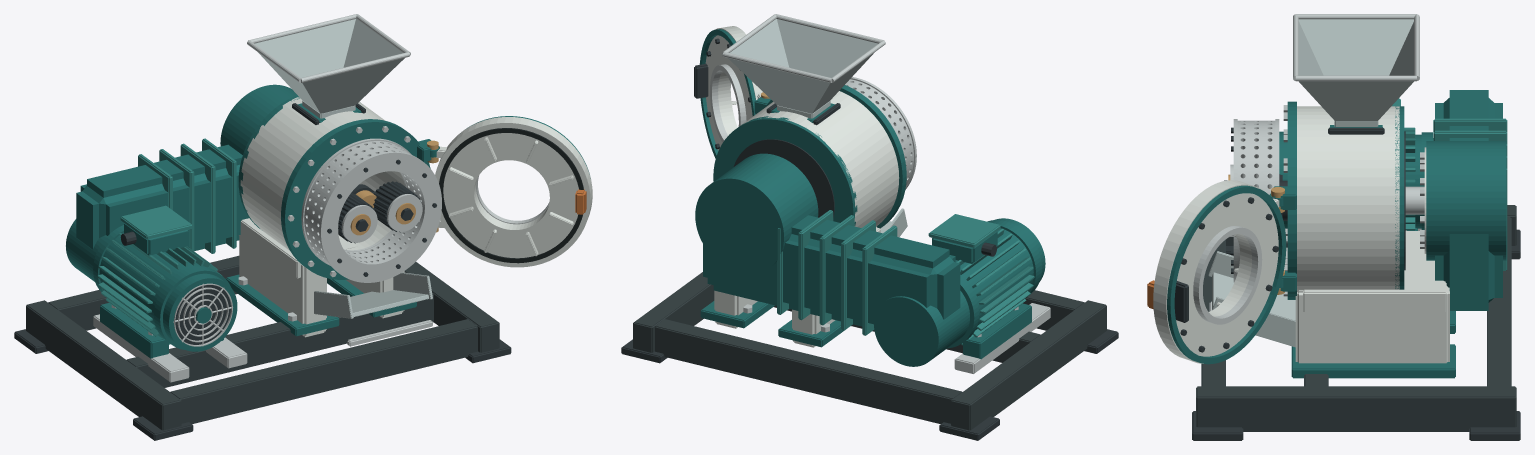
The model's file is assembled.glb.
The picture shows the model from 3 angles, left to right: view 1: azimuth 30°, elevation 25°; view 2: azimuth 150°, elevation 25°; view 3: azimuth 270°, elevation 25°; orthographic projection. The views are drawn at different scales.
Parts seen in each view (by area): view 1: frame, service_cover, reduction_gearcase, compression_housing, ring_die, motor, feed_hopper, head_pedestal, motor_fan_guard, discharge_chute, roller_right, roller_left; view 2: reduction_gearcase, frame, compression_housing, feed_hopper, motor, service_cover, head_pedestal, ring_die; view 3: frame, compression_housing, service_cover, reduction_gearcase, head_pedestal, feed_hopper, ring_die, discharge_chute, motor, service_hinges, shaft.
Part boxes in pixels (x1,y1,x2,y2): frame: (14,255,511,440); service_cover: (430,116,592,267); reduction_gearcase: (66,84,296,281); compression_housing: (238,95,430,279); ring_die: (301,138,441,282); motor: (93,205,230,358); feed_hopper: (247,14,410,124); head_pedestal: (226,218,416,337); motor_fan_guard: (163,273,237,351); discharge_chute: (314,272,432,346); roller_right: (373,181,422,232); roller_left: (338,192,377,243); reduction_gearcase: (695,153,969,366); frame: (621,272,1118,440); compression_housing: (713,85,906,228); feed_hopper: (721,14,885,125); motor: (928,214,1041,359); service_cover: (694,26,762,158); head_pedestal: (700,226,880,347); ring_die: (845,77,916,189); frame: (1192,205,1520,440); compression_housing: (1283,101,1405,299); service_cover: (1147,180,1286,364); reduction_gearcase: (1420,90,1507,310); head_pedestal: (1291,231,1455,378); feed_hopper: (1293,14,1419,134); ring_die: (1231,119,1279,282); discharge_chute: (1208,251,1295,347); motor: (1279,98,1432,230); service_hinges: (1271,186,1296,294); shaft: (1279,180,1424,220).
Bounding box in the file's own units: 2.82 × 1.78 × 1.82.
